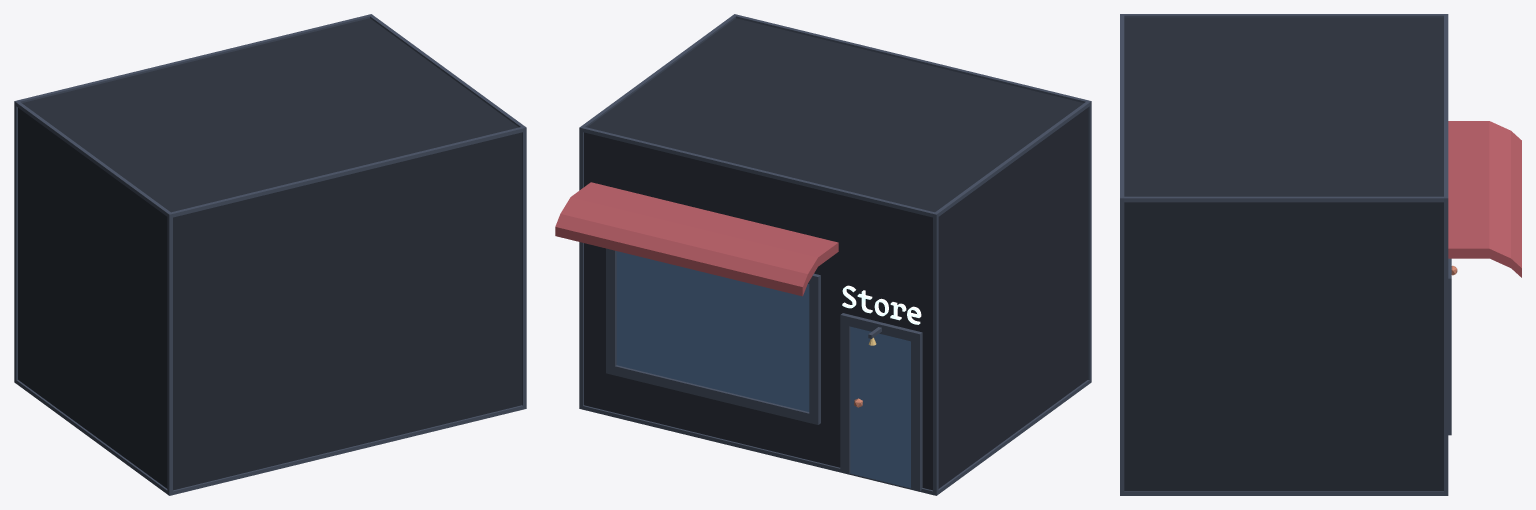
The model's file is Store.fbx.
The picture shows the model from 3 angles, left to right: view 1: azimuth 30°, elevation 25°; view 2: azimuth 150°, elevation 25°; view 3: azimuth 270°, elevation 25°; orthographic projection. The views are drawn at different scales.
Visible parts, largest first — view 1: Store, Store Frame; view 2: Store, Store Window Glass, Store Overhang, Store Frame, Store Door, Store Window Frame, Store Door Frame, Store Sign; view 3: Store, Store Overhang, Store Frame, Store Window Frame.
Part boxes in pixels (x1,y1,x2,y2): Store: (18, 18, 521, 490); Store Frame: (14, 14, 526, 495); Store: (584, 18, 1087, 490); Store Window Glass: (616, 251, 809, 411); Store Overhang: (555, 182, 838, 296); Store Frame: (579, 14, 1091, 495); Store Door: (850, 326, 910, 488); Store Window Frame: (606, 248, 820, 424); Store Door Frame: (840, 313, 922, 491); Store Sign: (842, 285, 921, 324); Store: (1124, 17, 1443, 491); Store Overhang: (1448, 121, 1521, 277); Store Frame: (1120, 14, 1448, 495); Store Window Frame: (1448, 258, 1451, 435).
Size of the model in its own units: 1.01 by 0.76 by 0.93.
